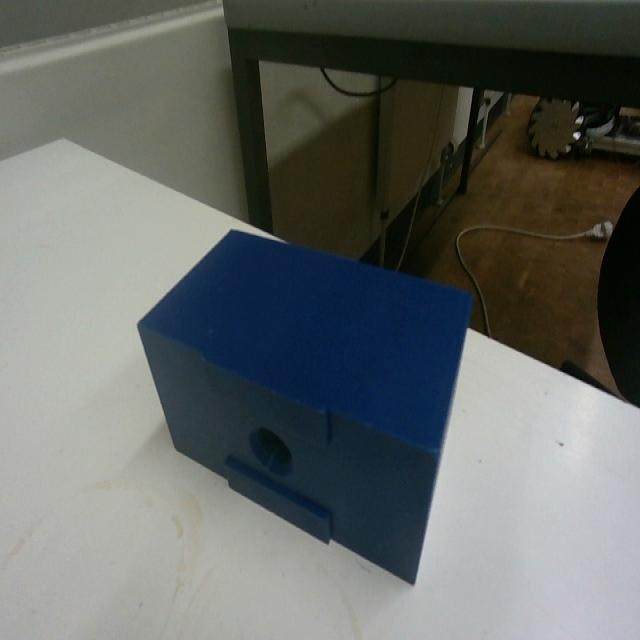Blue Cuboid: (135, 223, 475, 585)
